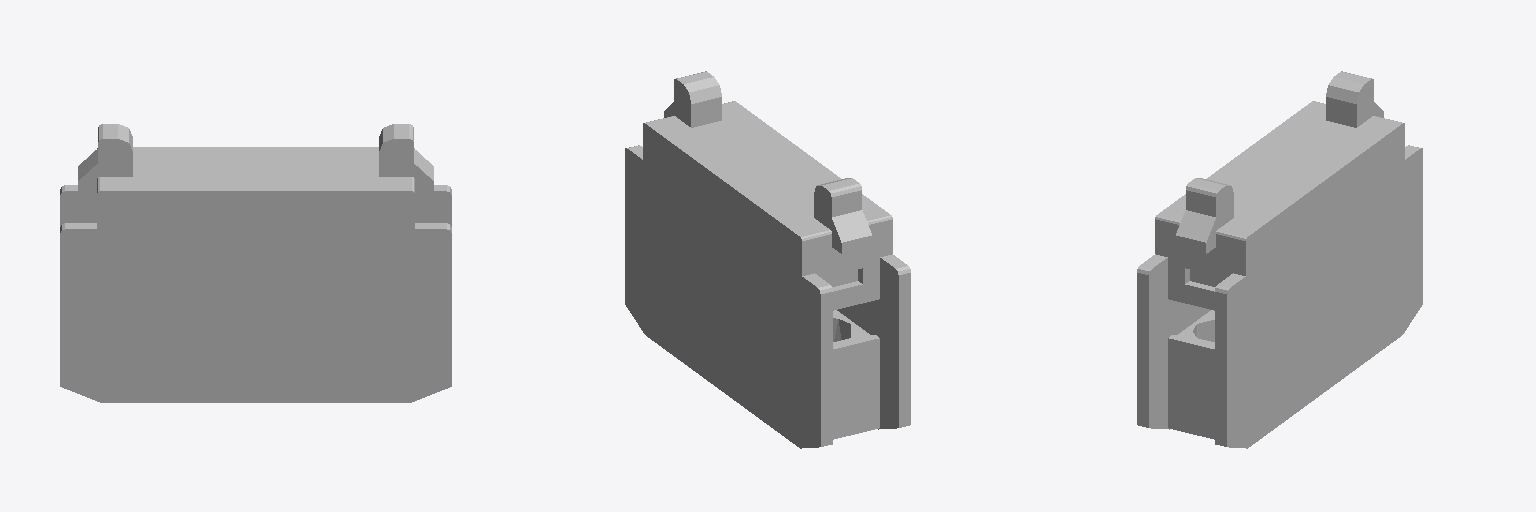
The model's file is platform_3.obj.
3 renders of one model, left to right at view 1: azimuth 30°, elevation 25°; view 2: azimuth 150°, elevation 25°; view 3: azimuth 270°, elevation 25°, orthographic.
Size of the model in its own units: 0.0374 by 0.0263 by 0.0274.